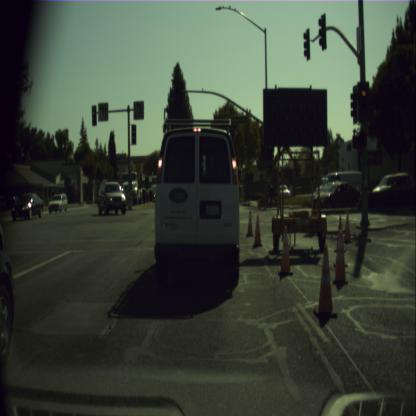Red: (358, 81, 369, 122)
off: (131, 124, 136, 144), (92, 105, 96, 125)
